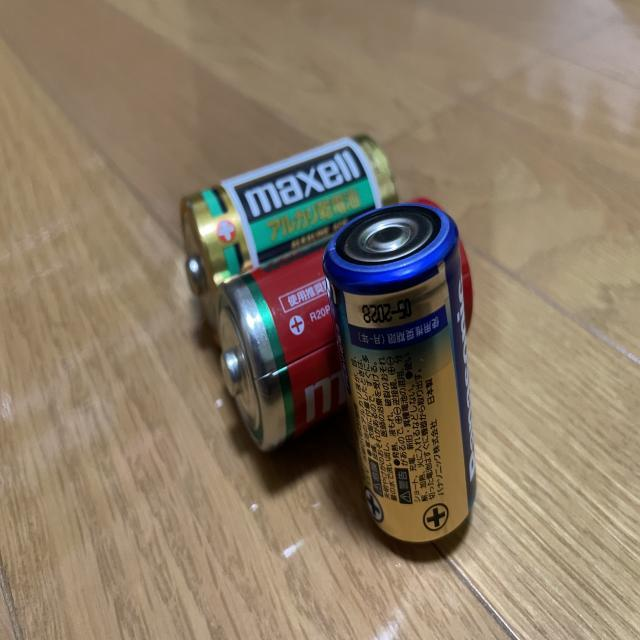hazardous waste: (210, 182, 476, 456), (319, 200, 489, 550), (172, 121, 400, 328)
